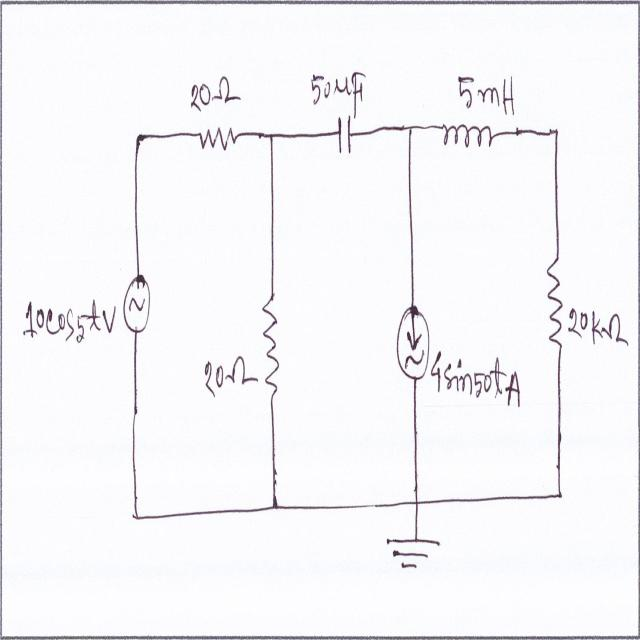ac_current: (118, 274, 156, 338)
capacitor: (335, 113, 352, 160)
current_source: (394, 304, 432, 382)
ground: (383, 526, 442, 570)
inductor: (440, 120, 496, 157)
resistor: (260, 286, 283, 390), (545, 253, 565, 354), (198, 124, 239, 158)
